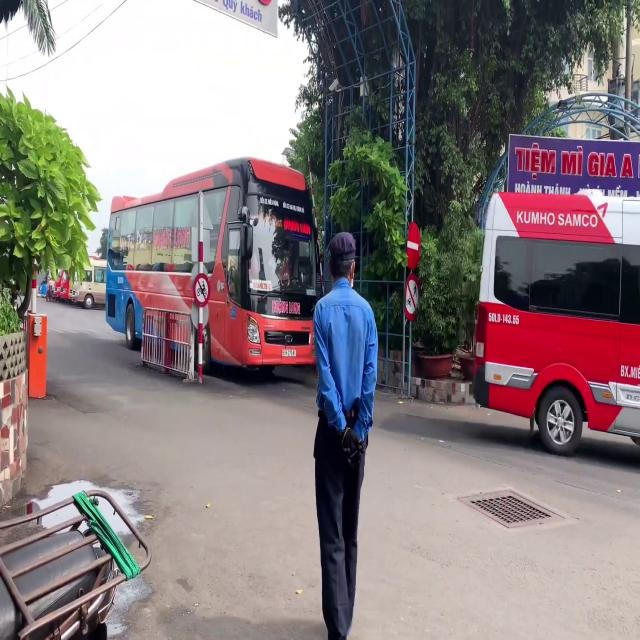bien_trang: (280, 348, 296, 358)
